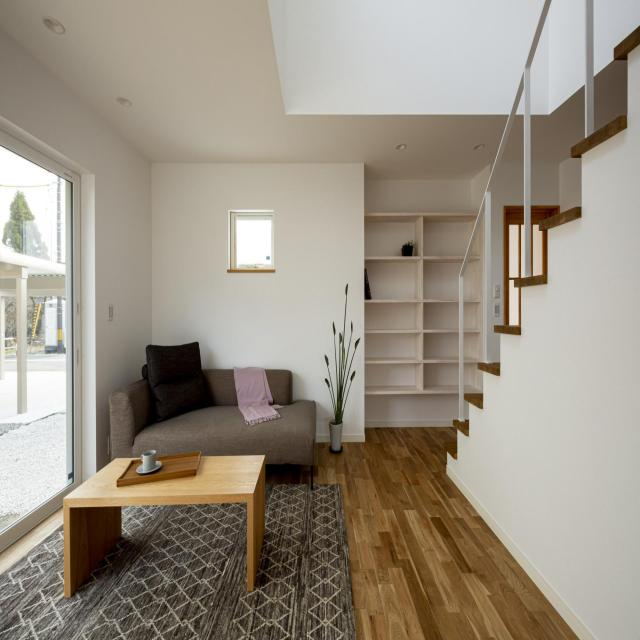natural desk: (65, 454, 273, 600)
natural sofa: (110, 360, 318, 465)
